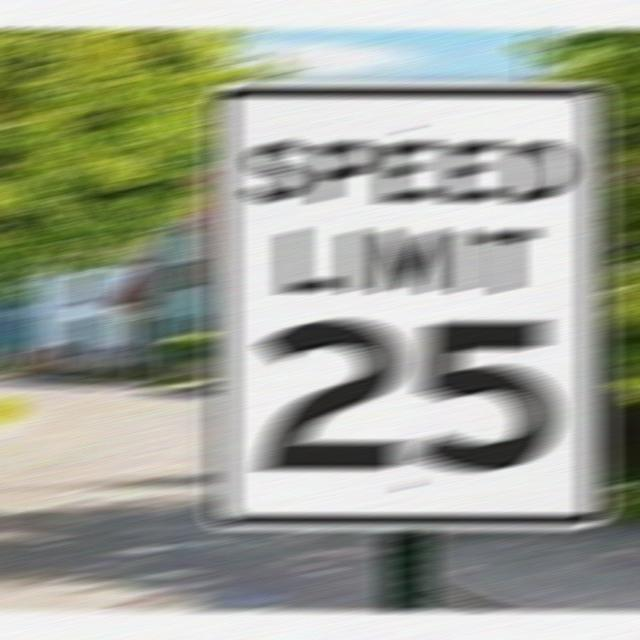speedLimit25: (204, 80, 606, 526)
